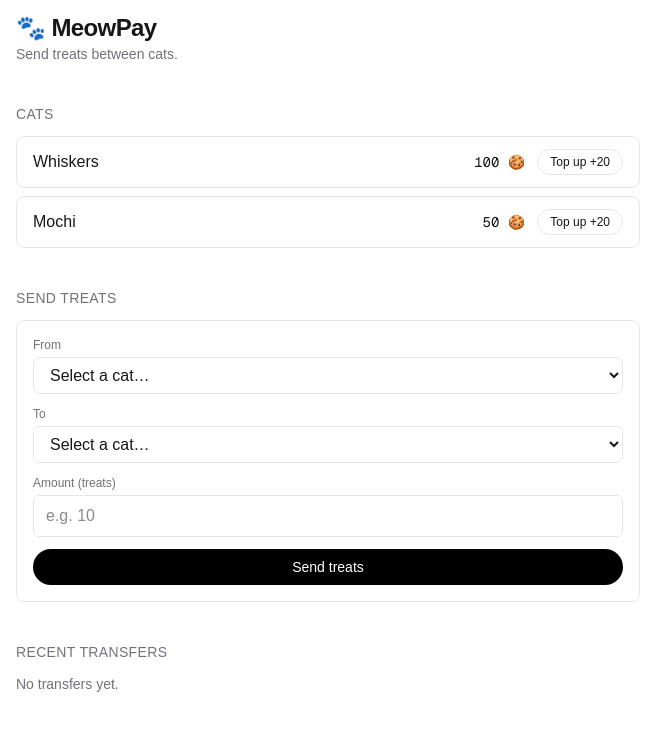
Test: Home › rejects submitting without picking a sender and recipient
This screenshot has width=657, height=741.
Expected: the list is shown, 16,136 -> 640,248
Click the button "Send treats": (328, 567) 33,549 -> 623,585
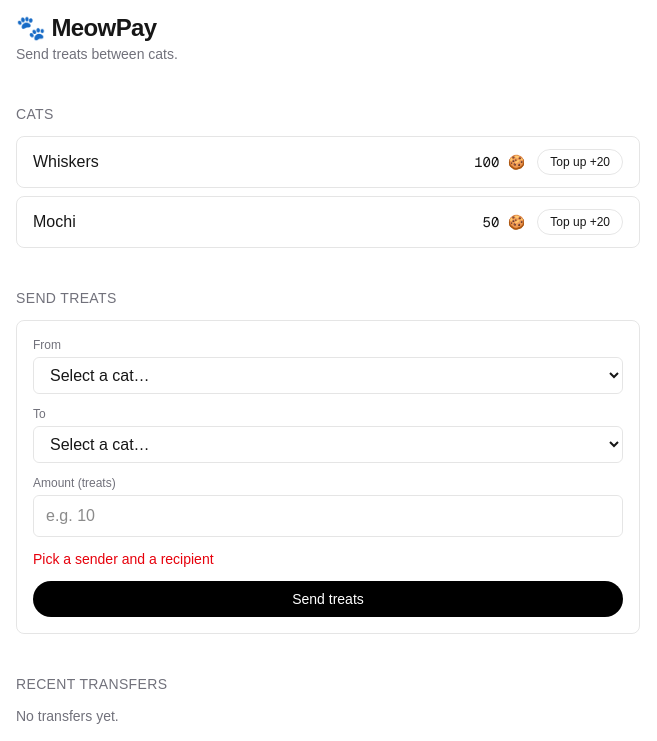
Expected: the text "Pick a sender and a recipient" is shown, 33,551 -> 214,567
